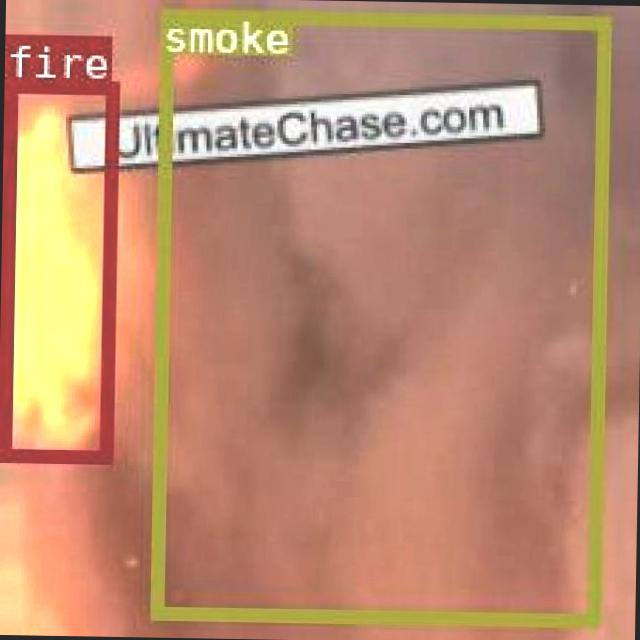fire: (0, 77, 117, 460)
smoke: (150, 8, 608, 624)
